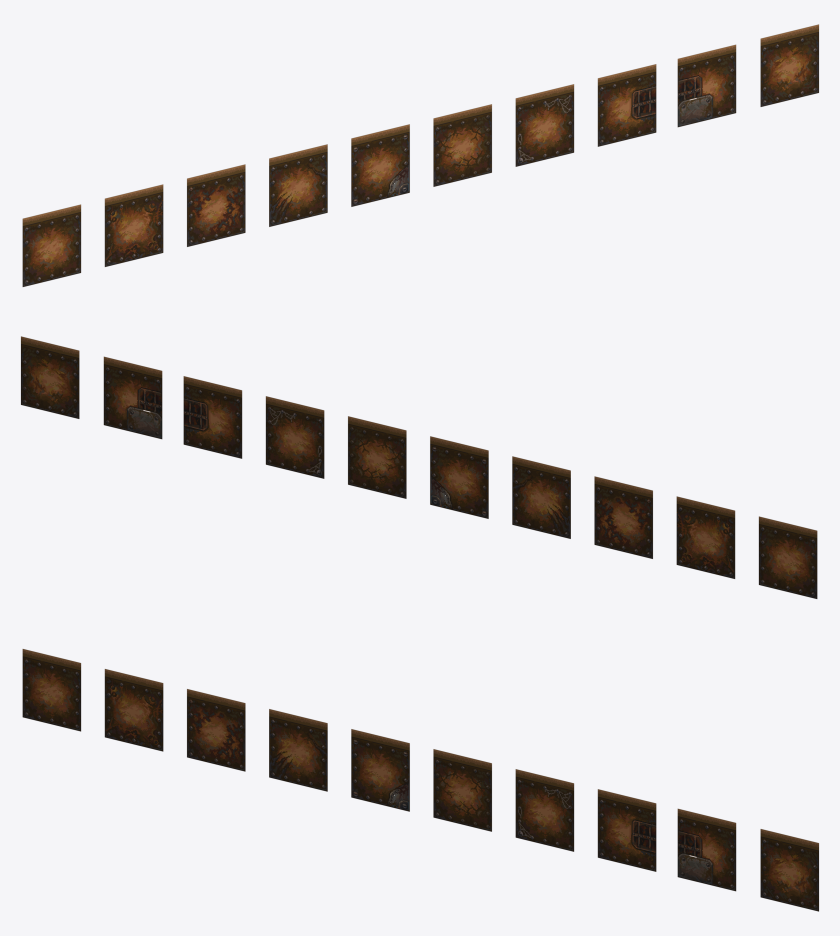
The model's file is stove.glb.
3 renders of one model, top to bottom at view 1: azimuth 30°, elevation 25°; view 2: azimuth 150°, elevation 25°; view 3: azimuth 330°, elevation 25°, orthographic.
Parts seen in each view (by area): view 1: stove2, stove9, stove8, stove7, stove3, stove5, stove6, stove4, stove10, stove1; view 2: stove2, stove9, stove8, stove7, stove3, stove5, stove6, stove4, stove10, stove1; view 3: stove2, stove9, stove8, stove7, stove3, stove5, stove6, stove4, stove10, stove1.
Part boxes in pixels (x1,y1,x2,y2): stove2: (104,184,163,266); stove9: (677,44,736,127); stove8: (597,64,656,146); stove7: (515,84,574,166); stove3: (187,164,245,246); stove5: (351,124,409,206); stove6: (433,104,491,186); stove4: (269,144,327,226); stove10: (760,24,818,106); stove1: (22,204,80,286); stove2: (676,496,735,578); stove9: (103,356,162,439); stove8: (183,376,242,458); stove7: (265,396,324,478); stove3: (594,476,652,558); stove5: (430,436,488,518); stove6: (348,416,406,498); stove4: (512,456,570,538); stove10: (21,336,79,418); stove1: (759,516,817,598); stove2: (104,669,163,751); stove9: (677,808,736,891); stove8: (597,789,656,871); stove7: (515,769,574,851); stove3: (187,689,245,771); stove5: (351,729,409,811); stove6: (433,749,491,831); stove4: (269,709,327,791); stove10: (760,829,818,911); stove1: (22,649,80,731).
Bounding box in the file's own units: 10.01 × 1 × 0.
Materials: 10 (10 with a texture image).
